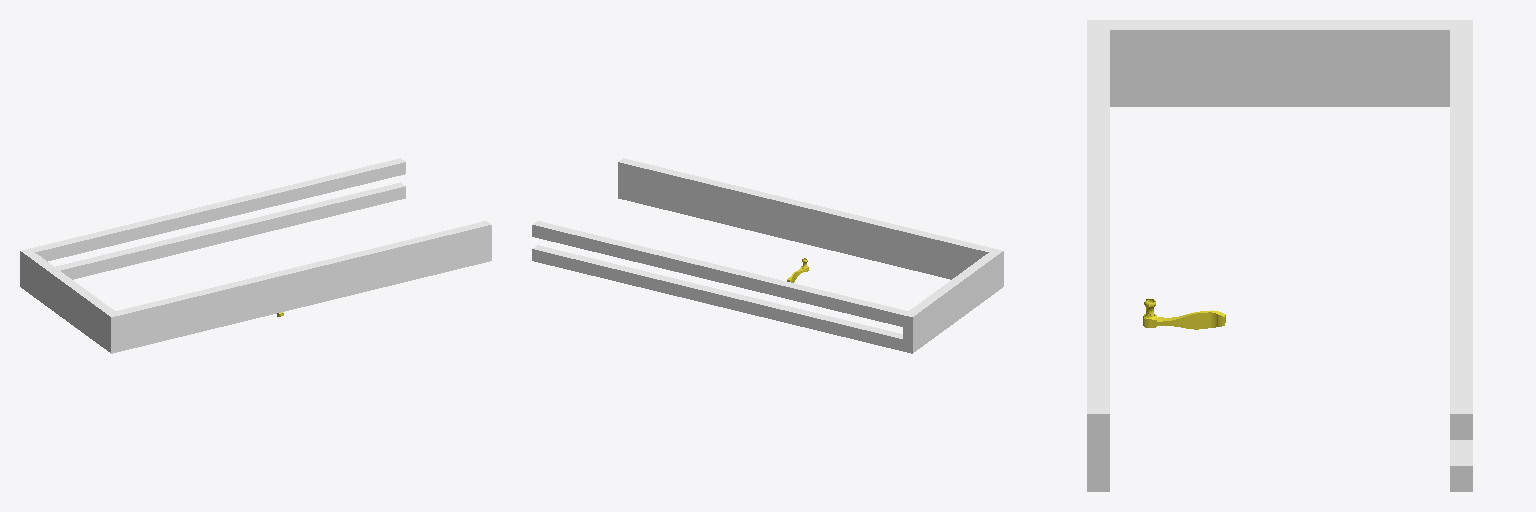
URDF robot description (right-pull-door):
<?xml version="1.0" ?>
<robot name="right-pull-door">
	<link name="base"/>
	<link name="link_0">
		<visual name="out-frame">
			<origin xyz="0 0 0"/>
			<geometry>
				<mesh filename="texture_dae/frame.dae" scale="1.0635804945680403 1.0635804945680403 1.0635804945680403"/>
			</geometry>
		</visual>
		<collision>
			<origin xyz="0 0 0"/>
			<geometry>
				<mesh filename="texture_dae/frame.dae" scale="1.0635804945680403 1.0635804945680403 1.0635804945680403"/>
			</geometry>
		</collision>
	</link>
	<joint name="joint_0" type="fixed">
		<origin rpy="1.570796326794897 0 -1.570796326794897" xyz="0 0 0"/>
		<child link="link_0"/>
		<parent link="base"/>
	</joint>
	<link name="link_1">
		<visual name="surf-board">
			<origin xyz="0.33550922230690317 -0.8788954927552987 0"/>
			<geometry>
				<mesh filename="texture_dae/board.dae" scale="1.0635804945680403 1.0635804945680403 1.0635804945680403"/>
			</geometry>
		</visual>
		<collision>
			<origin xyz="0.33550922230690317 -0.8788954927552987 0"/>
			<geometry>
				<mesh filename="texture_dae/board.dae" scale="1.0635804945680403 1.0635804945680403 1.0635804945680403"/>
			</geometry>
		</collision>
	</link>
	<joint name="joint_1" type="revolute">
		<origin xyz="-0.33550922230690317 0.8788954927552987 0"/>
		<axis xyz="0 -1 0"/>
		<child link="link_1"/>
		<parent link="link_0"/>
		<limit lower="0" upper="1.5079644737231006"/>
	</joint>
	<link name="link_2">
		<visual name="handle">
			<origin xyz="0 0 0"/>
			<geometry>
				<mesh filename="texture_dae/9960006.dae" scale="2.298220821754513 2.298220821754513 2.298220821754513"/>
			</geometry>
		</visual>
		<collision>
			<origin xyz="0 0 0"/>
			<geometry>
				<mesh filename="texture_dae/9960006.dae" scale="2.298220821754513 2.298220821754513 2.298220821754513"/>
			</geometry>
		</collision>
	</link>
	<joint name="joint_2" type="revolute">
		<origin xyz="0.5915883121627963 -0.9909025292273166 0.028400593899485127"/>
		<child link="link_2"/>
		<parent link="link_1"/>
		<axis xyz="0 0 1"/>
		<limit lower="0" upper="1.5079644737231006"/>
	</joint>
</robot>

--- Facts derived from the render (not from the file) ---
3 views of the same robot in one strip: view 1: azimuth 30°, elevation 25°; view 2: azimuth 150°, elevation 25°; view 3: azimuth 270°, elevation 25° (orthographic).
Model right-pull-door with 4 links and 3 joints (2 revolute, 1 fixed), rooted at base, posed every joint at zero.
Links seen in each view (by area): view 1: link_0; view 2: link_0; view 3: link_0, link_2.
Boxes of the visible links, x1,y1,x2,y2 form: link_0: (20,158,491,353); link_0: (532,158,1003,353); link_0: (1087,20,1472,491); link_2: (1143,299,1225,329).
Size in the robot's own frame: 1.84 by 0.7611 by 0.2576 metres.
2 mesh visuals loaded from 3 distinct referenced files (2 Collada DAE); not drawn: 1 (reference not matched to a file when rendering).
